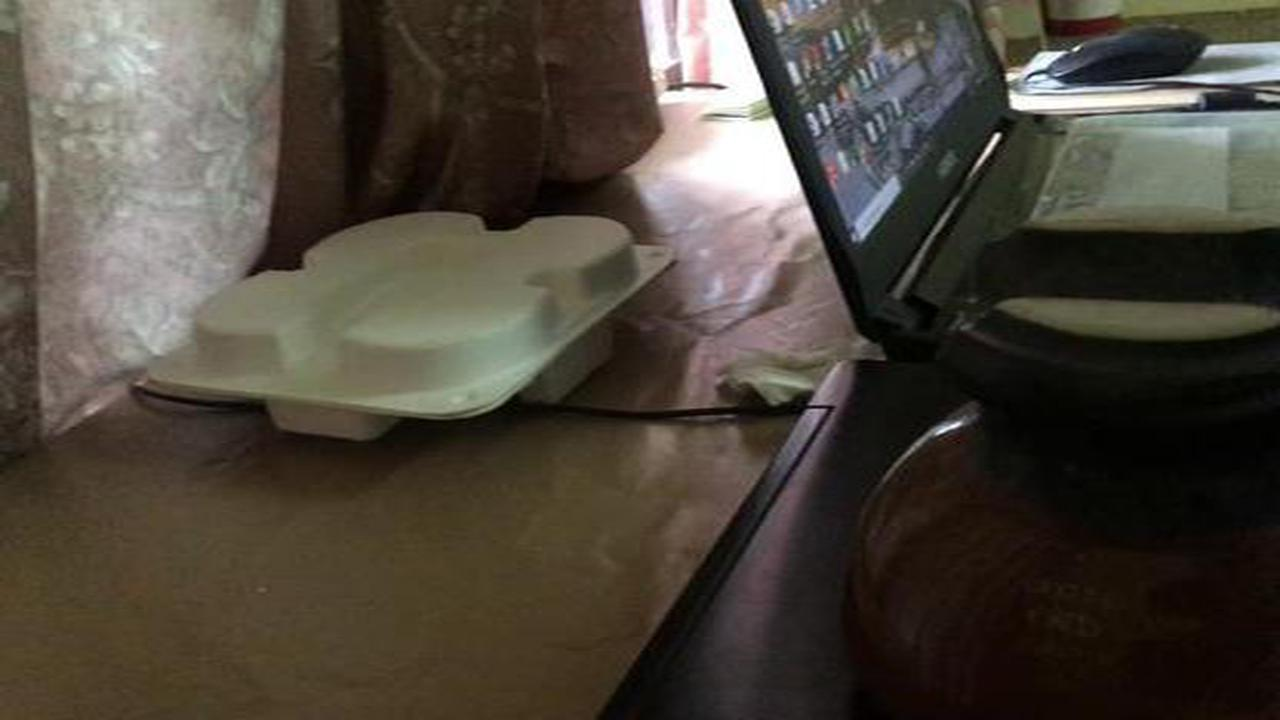insulator_pin: (831, 208, 1280, 720)
